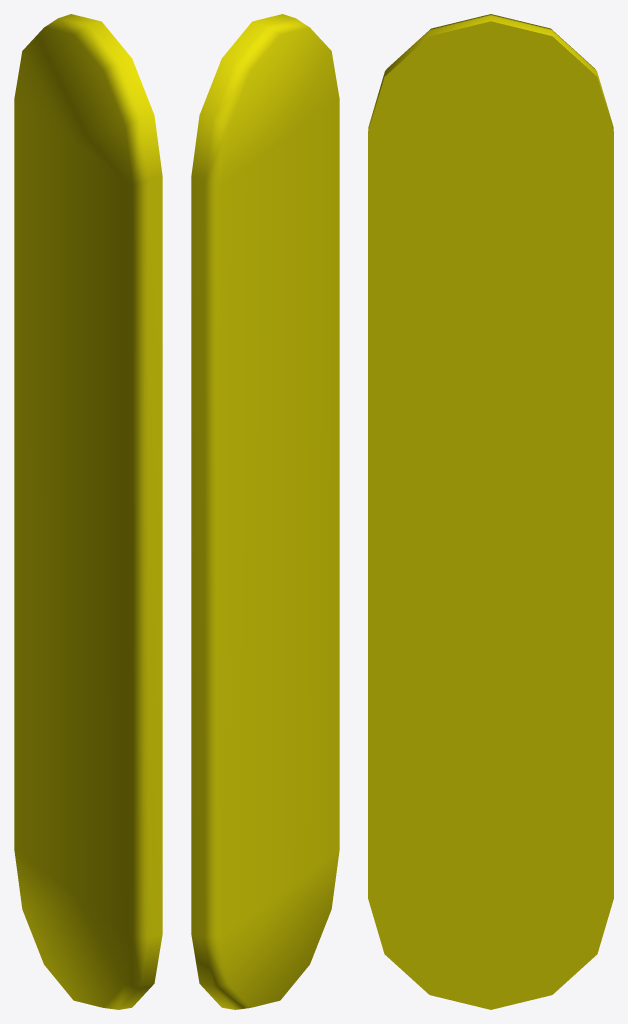
Rendered from Door_Handle_Base.fbx.
3 renders of one model, left to right at view 1: azimuth 30°, elevation 25°; view 2: azimuth 150°, elevation 25°; view 3: azimuth 270°, elevation 25°, orthographic.
Visible parts, largest first — view 1: Door_Handle_Base; view 2: Door_Handle_Base; view 3: Door_Handle_Base.
Boxes of the visible parts, bbox=[...] form: Door_Handle_Base: bbox=[14, 14, 162, 1009]; Door_Handle_Base: bbox=[191, 14, 339, 1009]; Door_Handle_Base: bbox=[368, 14, 613, 1009].
Bounding box in the file's own units: 1.13 × 37.48 × 8.45.
